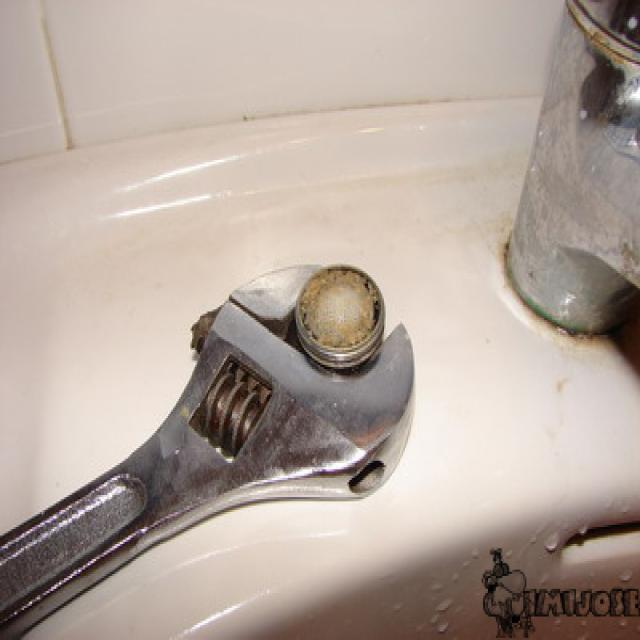wrench: (2, 210, 424, 628)
